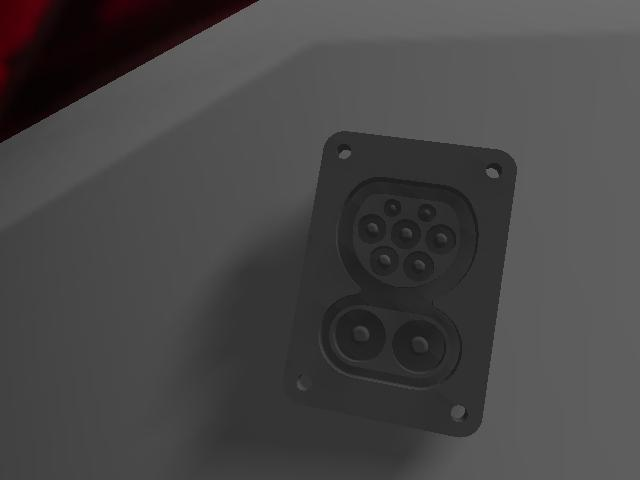EV-socket: (275, 122, 525, 446)
